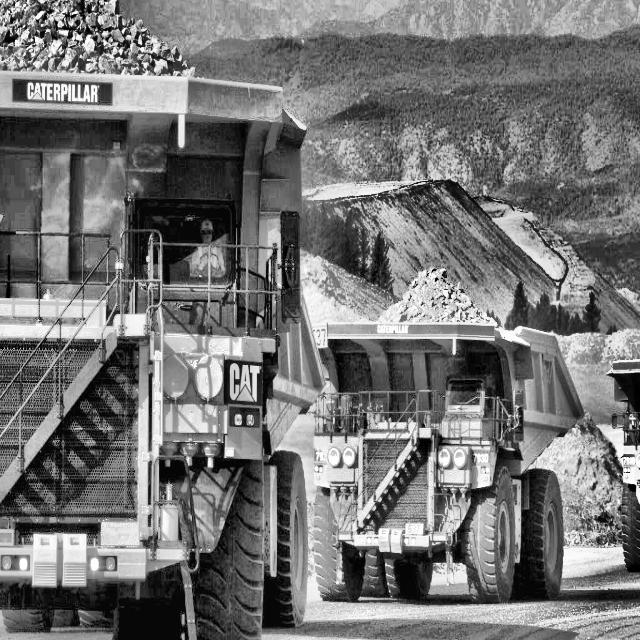dump_truck: (0, 0, 305, 640), (312, 240, 602, 640)
